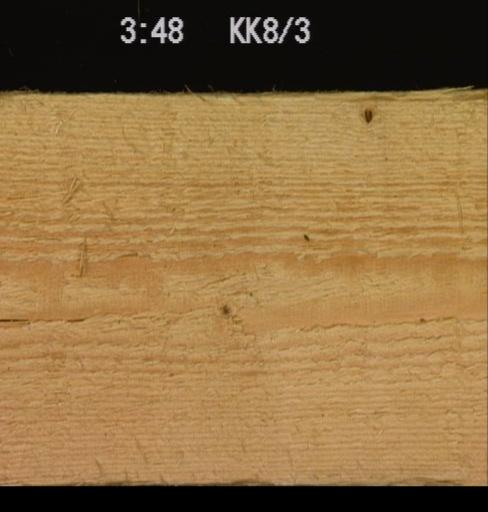dry_knot: (359, 103, 373, 125)
small_knot: (215, 298, 234, 319)
split: (0, 310, 94, 325)
wave: (185, 86, 486, 96), (207, 475, 468, 485)
